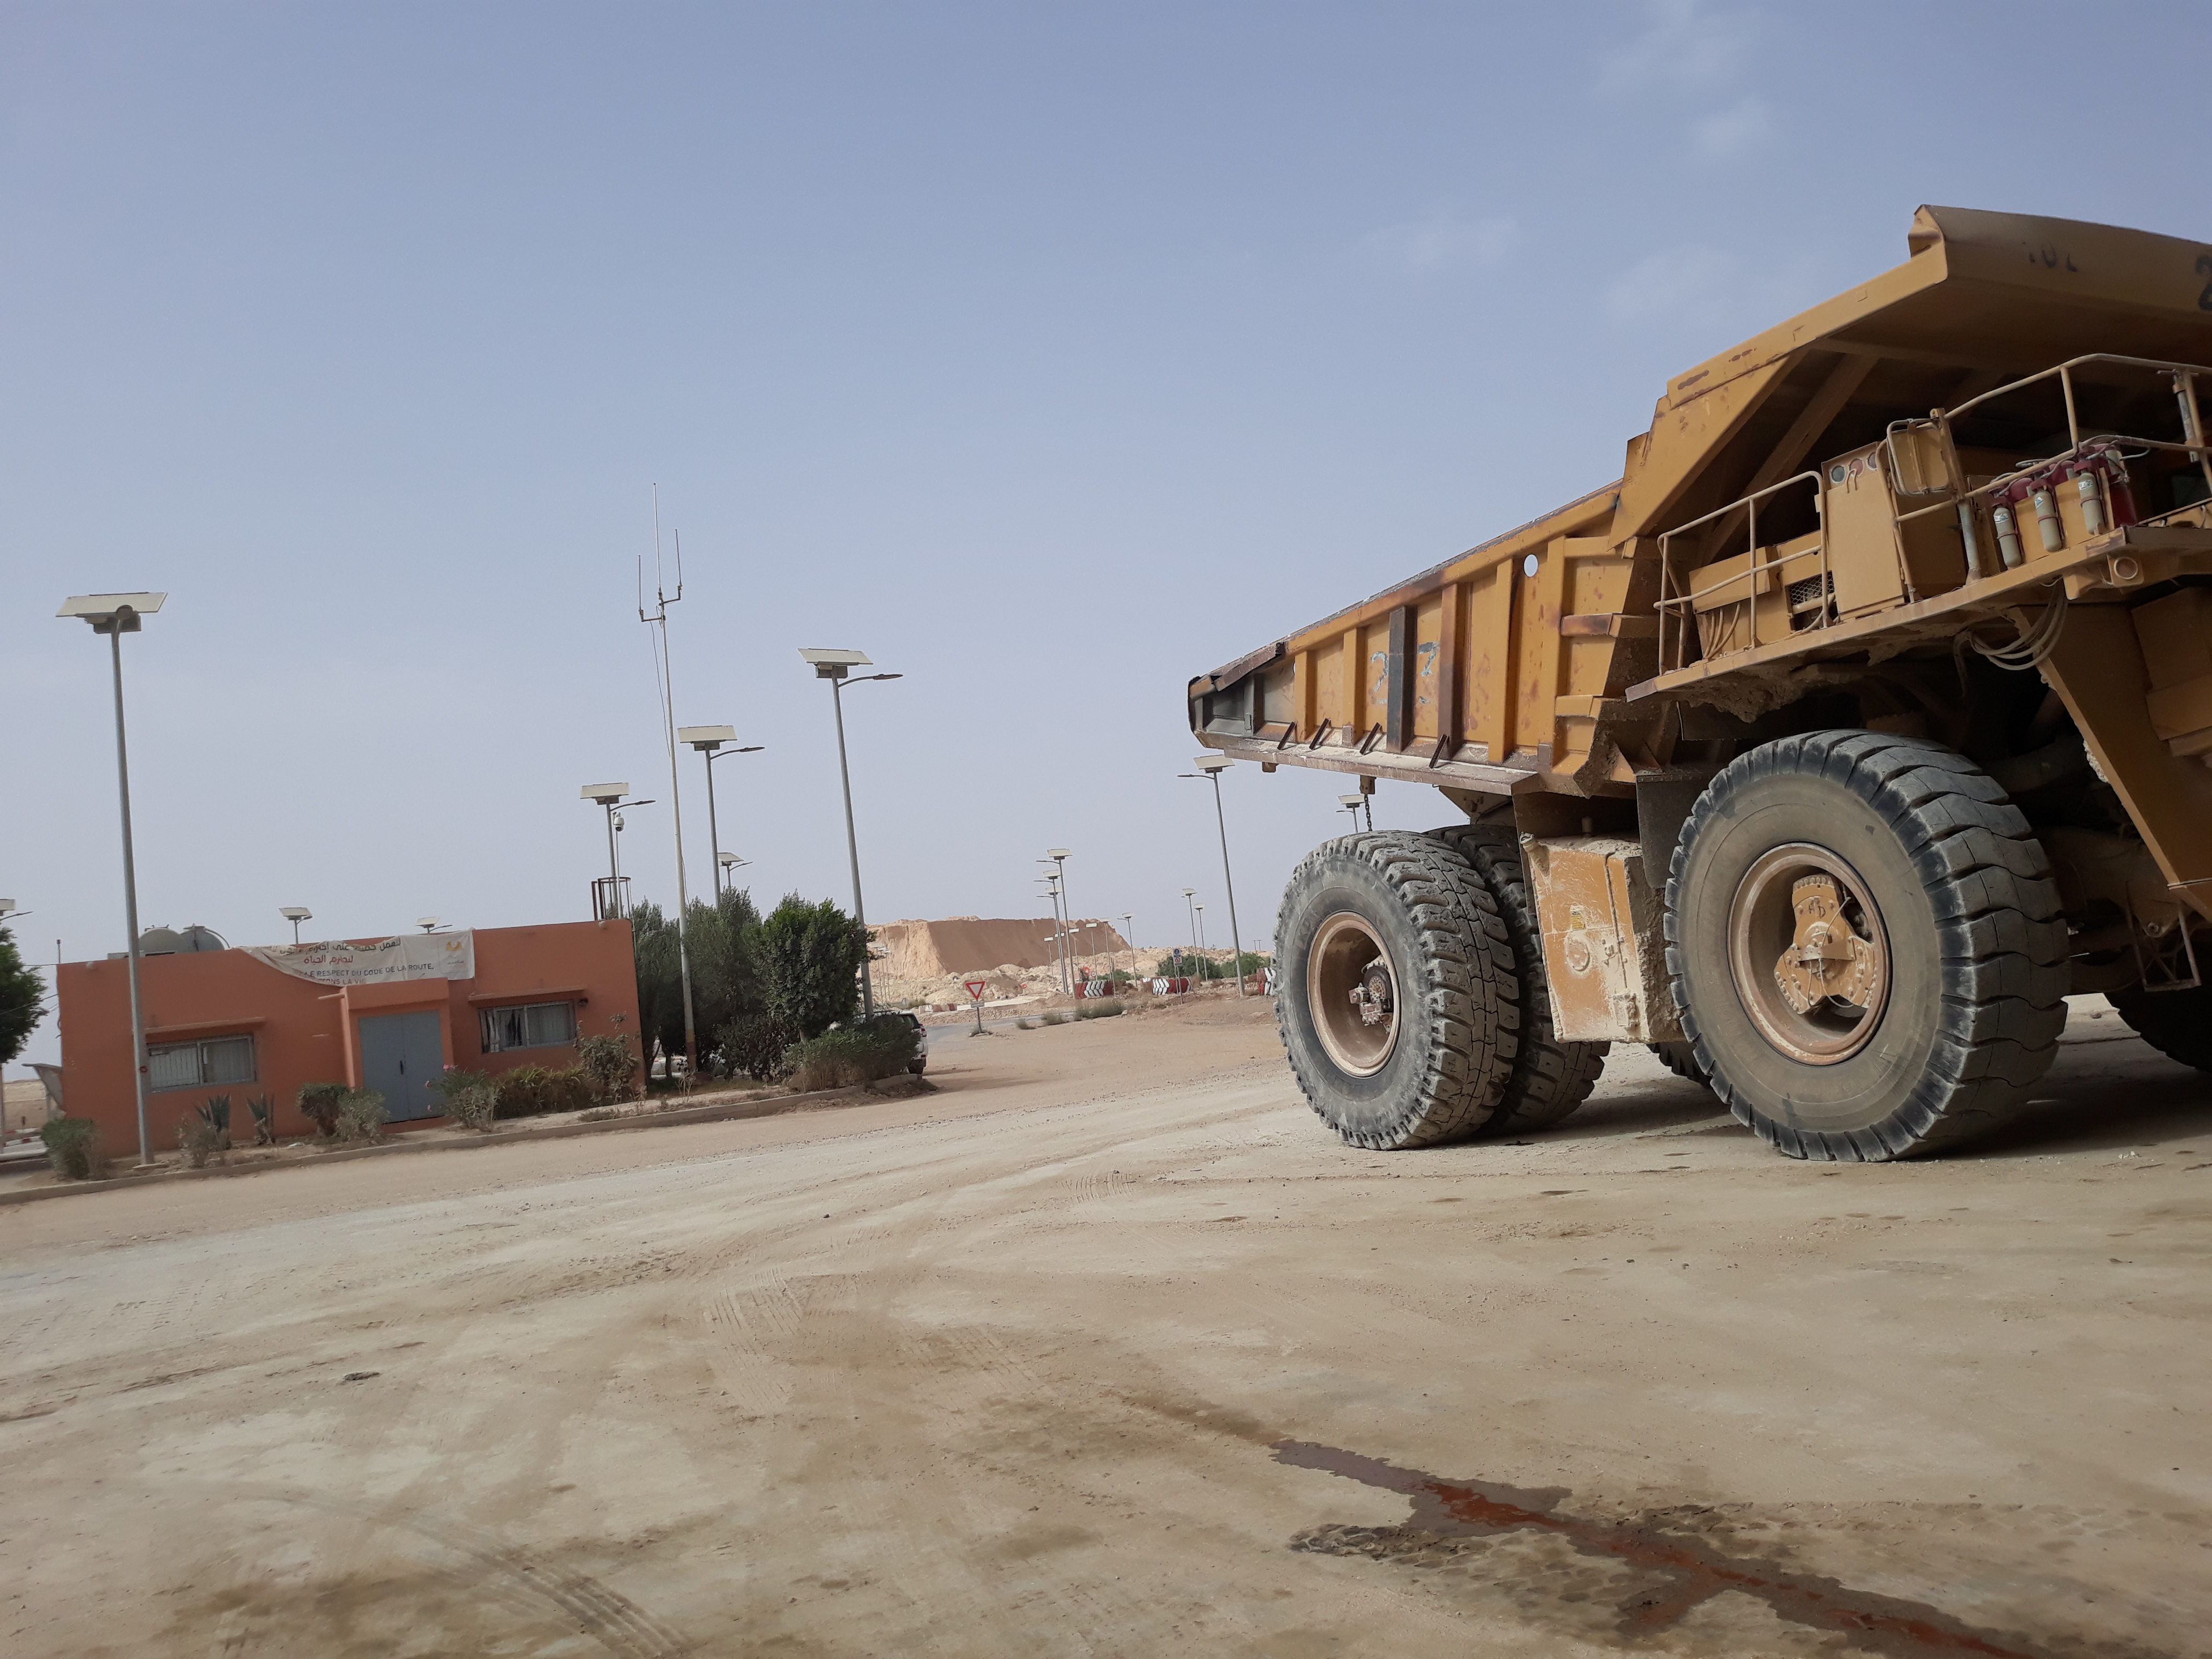camion: (1165, 178, 2212, 1190)
car: (836, 986, 944, 1108)
